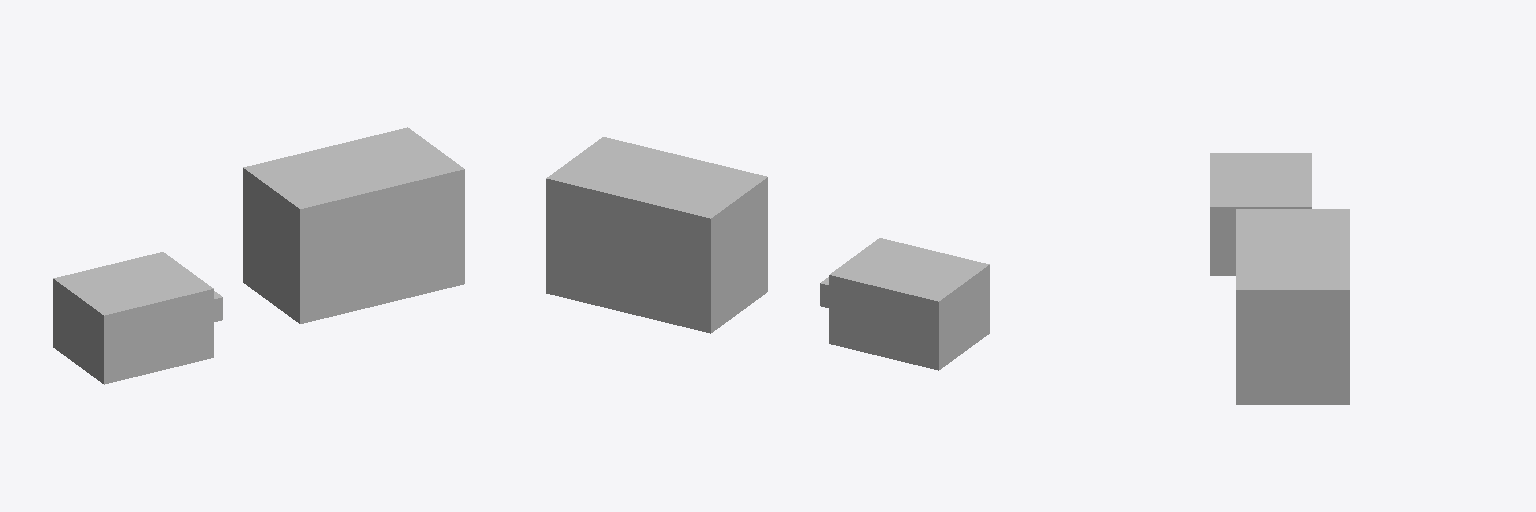
Rendered from Luggage.obj.
The picture shows the model from 3 angles: view 1: azimuth 30°, elevation 25°; view 2: azimuth 150°, elevation 25°; view 3: azimuth 270°, elevation 25°; orthographic projection.
Parts seen in each view (by area): view 1: object 1; view 2: object 1; view 3: object 1.
Boxes of the visible parts, <box> form: object 1: <box>53,127,464,384</box>; object 1: <box>546,137,989,370</box>; object 1: <box>1210,153,1349,404</box>.
Size of the model in its own units: 3.4 by 1 by 1.1.